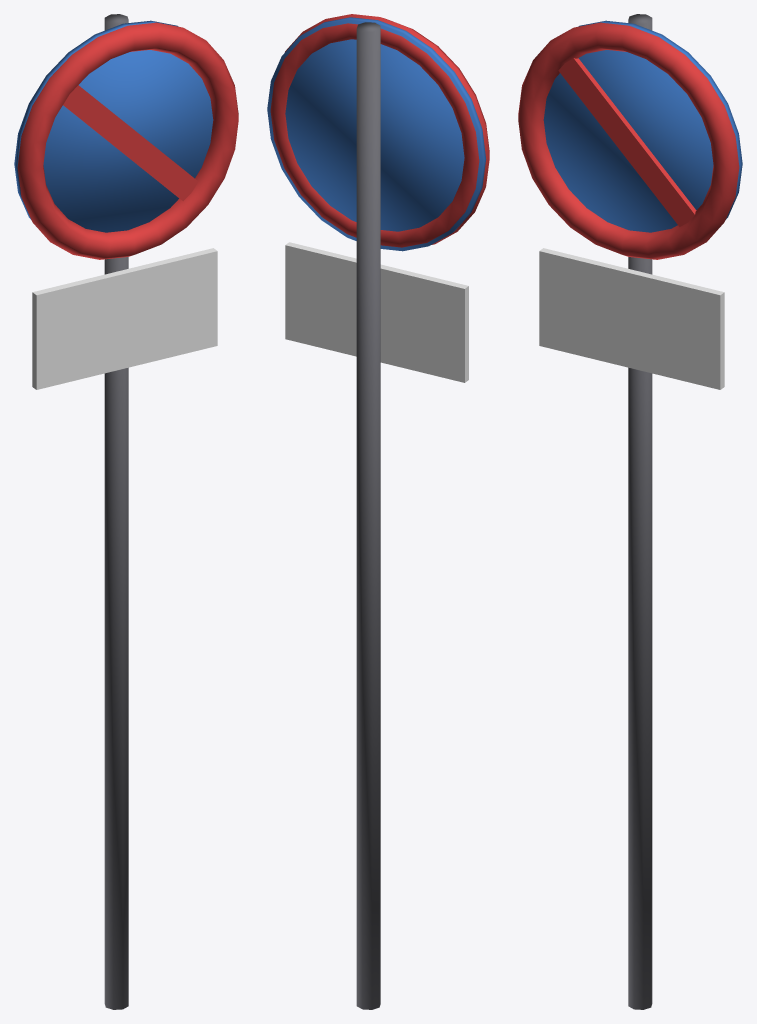
Rendered from sign_post.glb.
3 renders of one model, left to right at view 1: azimuth 30°, elevation 25°; view 2: azimuth 150°, elevation 25°; view 3: azimuth 330°, elevation 25°, orthographic.
Parts seen in each view (by area): view 1: sign_post; view 2: sign_post; view 3: sign_post.
Part boxes in pixels (x1,y1,x2,y2): sign_post: (14,14,238,1009); sign_post: (267,14,489,1009); sign_post: (518,14,742,1009).
Bounding box in the file's own units: 0.61 × 2.61 × 0.1153.
